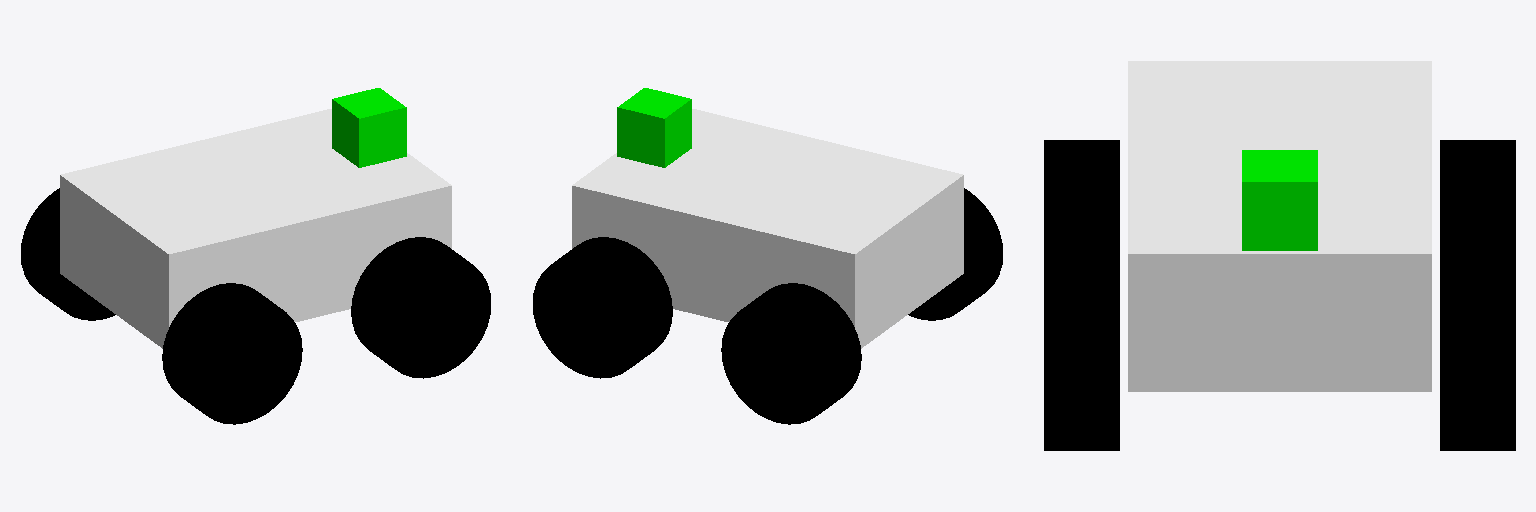
URDF robot description (robot):
<?xml version="1.0" ?>
<!-- =================================================================================== -->
<!-- |    This document was autogenerated by xacro from [local-path]/RM25/src/rm_robot_description/urdf/simulation_waking_robot.xacro | -->
<!-- |    EDITING THIS FILE BY HAND IS NOT RECOMMENDED                                 | -->
<!-- =================================================================================== -->
<robot name="robot">
  <link name="dummy"/>
  <link name="base_link">
    <visual>
      <geometry>
        <box size="0.2 .3 .1"/>
      </geometry>
      <origin rpy="0 0 1.5707963" xyz="0 0 0.05"/>
      <material name="white">
        <color rgba="1 1 1 1"/>
      </material>
    </visual>
    <collision>
      <geometry>
        <box size="0.2 .3 0.1"/>
      </geometry>
      <origin rpy="0 0 1.5707963" xyz="0 0 0.05"/>
    </collision>
    <inertial>
      <mass value="8.2"/>
      <inertia ixx="0.01" ixy="0.0" ixz="0.0" iyy="0.01" iyz="0.0" izz="0.01"/>
    </inertial>
  </link>
  <joint name="dummy_joint" type="fixed">
    <parent link="dummy"/>
    <child link="base_link"/>
  </joint>
  <link name="wheel_1">
    <visual>
      <geometry>
        <cylinder length="0.05" radius="0.06"/>
      </geometry>
      <origin rpy="0 0 0" xyz="0 0 0"/>
      <material name="black">
        <color rgba="0 0 0 1"/>
      </material>
    </visual>
    <collision>
      <geometry>
        <cylinder length="0.05" radius="0.06"/>
      </geometry>
    </collision>
    <mu1>0.5</mu1>
    <mu2>0.5</mu2>
    <inertial>
      <mass value="0.5"/>
      <inertia ixx="0.01" ixy="0.0" ixz="0.0" iyy="0.01" iyz="0.0" izz="0.01"/>
    </inertial>
  </link>
  <link name="wheel_2">
    <visual>
      <geometry>
        <cylinder length="0.05" radius="0.06"/>
      </geometry>
      <origin rpy="0 0 0" xyz="0 0 0"/>
      <material name="black"/>
    </visual>
    <collision>
      <geometry>
        <cylinder length="0.05" radius="0.06"/>
      </geometry>
    </collision>
    <mu1>0.5</mu1>
    <mu2>0.5</mu2>
    <inertial>
      <mass value="0.5"/>
      <inertia ixx="0.01" ixy="0.0" ixz="0.0" iyy="0.01" iyz="0.0" izz="0.01"/>
    </inertial>
  </link>
  <link name="wheel_3">
    <visual>
      <geometry>
        <cylinder length="0.05" radius="0.06"/>
      </geometry>
      <origin rpy="0 0 0" xyz="0 0 0"/>
      <material name="black"/>
    </visual>
    <collision>
      <geometry>
        <cylinder length="0.05" radius="0.06"/>
      </geometry>
    </collision>
    <mu1>0.5</mu1>
    <mu2>0.5</mu2>
    <inertial>
      <mass value="0.5"/>
      <inertia ixx="0.01" ixy="0.0" ixz="0.0" iyy="0.01" iyz="0.0" izz="0.01"/>
    </inertial>
  </link>
  <link name="wheel_4">
    <visual>
      <geometry>
        <cylinder length="0.05" radius="0.06"/>
      </geometry>
      <origin rpy="0 0 0" xyz="0 0 0"/>
      <material name="black"/>
    </visual>
    <collision>
      <geometry>
        <cylinder length="0.05" radius="0.06"/>
      </geometry>
    </collision>
    <mu1>0.5</mu1>
    <mu2>0.5</mu2>
    <inertial>
      <mass value="0.5"/>
      <inertia ixx="0.01" ixy="0.0" ixz="0.0" iyy="0.01" iyz="0.0" izz="0.01"/>
    </inertial>
  </link>
  <joint name="base_to_wheel1" type="continuous">
    <parent link="base_link"/>
    <child link="wheel_1"/>
    <origin rpy="-1.5707963 0 0" xyz="0.1 0.13 0"/>
    <axis xyz="0 0 1"/>
  </joint>
  <joint name="base_to_wheel2" type="continuous">
    <axis xyz="0 0 1"/>
    <anchor xyz="0 0 0"/>
    <limit effort="100" velocity="100"/>
    <parent link="base_link"/>
    <child link="wheel_2"/>
    <origin rpy="-1.5707963 0 0" xyz="-0.1 0.13 0"/>
  </joint>
  <joint name="base_to_wheel3" type="continuous">
    <parent link="base_link"/>
    <axis xyz="0 0 1"/>
    <child link="wheel_3"/>
    <origin rpy="-1.5707963 0 0" xyz="0.1 -0.13 0"/>
  </joint>
  <joint name="base_to_wheel4" type="continuous">
    <parent link="base_link"/>
    <axis xyz="0 0 1"/>
    <child link="wheel_4"/>
    <origin rpy="-1.5707963 0 0" xyz="-0.1 -0.13 0"/>
  </joint>
  <!-- IMU joint -->
  <joint name="imu_joint" type="fixed">
    <axis xyz="0 1 0"/>
    <origin rpy="0 0 0" xyz="0.12 0 0.125"/>
    <parent link="base_link"/>
    <child link="imu_link"/>
  </joint>
  <!-- IMU -->
  <link name="imu_link">
    <collision>
      <origin rpy="0 0 0" xyz="0 0 0"/>
      <geometry>
        <box size="0.05 0.05 0.05"/>
      </geometry>
    </collision>
    <visual>
      <origin rpy="0 0 0" xyz="0 0 0"/>
      <geometry>
        <box size="0.05 0.05 0.05"/>
      </geometry>
      <material name="green">
        <color rgba="0 1 0 1"/>
      </material>
    </visual>
    <inertial>
      <mass value="1e-2"/>
      <origin rpy="0 0 0" xyz="0 0 0"/>
      <inertia ixx="1e-6" ixy="0" ixz="0" iyy="1e-6" iyz="0" izz="1e-6"/>
    </inertial>
  </link>
  <!-- Gazebo插件设置相关 -->
  <gazebo reference="base_link">
    <material>Gazebo/Orange</material>
  </gazebo>
  <gazebo reference="wheel_1">
    <material>Gazebo/Red</material>
  </gazebo>
  <gazebo reference="wheel_2">
    <material>Gazebo/Black</material>
  </gazebo>
  <gazebo reference="wheel_3">
    <material>Gazebo/Red</material>
  </gazebo>
  <gazebo reference="wheel_4">
    <material>Gazebo/Black</material>
  </gazebo>
  <gazebo reference="imu_link">
    <material>Gazebo/BuildingFrame</material>
  </gazebo>
  <gazebo reference="livox_frame">
    <material>Gazebo/LightBlueLaser</material>
  </gazebo>
  <!-- Drive controller plugin-->
  <!-- https://github.com/ros-simulation/gazebo_ros_pkgs/wiki/ROS-2-Migration:-Planar-Move -->
  <gazebo>
    <plugin filename="libgazebo_ros_planar_move.so" name="mecanum_controller">
      <ros>
        <!-- Add a namespace -->
        <namespace>/</namespace>
        <!-- Remap the default topic -->
        <remapping>cmd_vel:=cmd_vel_chassis</remapping>
        <remapping>odom:=odom</remapping>
      </ros>
      <!-- Set control loop update rate -->
      <update_rate>100</update_rate>
      <!-- Set odom publish rate -->
      <publish_rate>10</publish_rate>
      <!-- Set if odom required -->
      <publish_odom>false</publish_odom>
      <publish_odom_tf>false</publish_odom_tf>
      <!-- Frame IDs -->
      <odometry_frame>odom</odometry_frame>
      <robot_base_frame>base_link</robot_base_frame>
      <!-- Set odom covariance -->
      <covariance_x>0.0001</covariance_x>
      <covariance_y>0.0001</covariance_y>
      <covariance_yaw>0.01</covariance_yaw>
    </plugin>
  </gazebo>
  <!-- mid360_imu plugin -->
  <!-- https://github.com/ros-simulation/gazebo_ros_pkgs/wiki/ROS-2-Migration:-IMU-Sensors -->
  <gazebo reference="imu_link">
    <sensor name="mid360_imu" type="imu">
      <always_on>true</always_on>
      <update_rate>100</update_rate>
      <plugin filename="libgazebo_ros_imu_sensor.so" name="imu_plugin">
        <ros>
          <namespace>/</namespace>
          <remapping>~/out:=/livox/imu</remapping>
        </ros>
        <frame_name>imu_link</frame_name>
      </plugin>
    </sensor>
  </gazebo>
  <link name="livox_frame">
    <visual>
      <origin rpy="1.5707963267948966 0 3.141592653589793" xyz="0.025 -0.0265 0.0"/>
      <geometry>
        <mesh filename="file://[local-path]/RM25/src/rm_robot_description/meshes/mid360.stl" scale="0.0008 0.0008 0.0008"/>
      </geometry>
    </visual>
  </link>
  <joint name="livox_frame_joint" type="fixed">
    <parent link="base_link"/>
    <child link="livox_frame"/>
    <origin rpy="0 0 0" xyz="0.12 0.0 0.175"/>
  </joint>
  <gazebo reference="livox_frame">
    <sensor name="livox_frame" type="ray">
      <pose>0 0 0 0 0 0</pose>
      <visualize>true</visualize>
      <update_rate>10</update_rate>
      <!-- 仿真使用-->
      <gazebo>
        <plugin filename="libgazebo_ros_livox.so" name="livox_lidar_plugin">
          <ros>
            <namespace>/livox</namespace>
            <remapping>pointcloud:=/livox/lidar/pointcloud</remapping>
          </ros>
          <frameName>livox_link</frameName>
          <topic>/livox/lidar/pointcloud</topic>
          <updateRate>10</updateRate>
        </plugin>
      </gazebo>
    </sensor>
  </gazebo>
</robot>

--- Facts derived from the render (not from the file) ---
3 views of the same robot in one strip: view 1: azimuth 30°, elevation 25°; view 2: azimuth 150°, elevation 25°; view 3: azimuth 270°, elevation 25° (orthographic).
Model robot with 8 links and 7 joints (4 continuous, 3 fixed), rooted at dummy, posed every joint at zero.
Visible links, largest first — view 1: base_link, wheel_4, wheel_3, imu_link, wheel_2; view 2: base_link, wheel_2, wheel_1, imu_link, wheel_4; view 3: base_link, wheel_1, wheel_3, wheel_2, wheel_4, imu_link.
Boxes of the visible links, x1=… form: base_link: x1=60, y1=109, x2=451, y2=348; wheel_4: x1=162, y1=283, x2=302, y2=424; wheel_3: x1=351, y1=237, x2=490, y2=378; imu_link: x1=332, y1=88, x2=406, y2=167; wheel_2: x1=21, y1=188, x2=115, y2=320; base_link: x1=572, y1=109, x2=963, y2=348; wheel_2: x1=721, y1=283, x2=861, y2=424; wheel_1: x1=533, y1=237, x2=672, y2=378; imu_link: x1=617, y1=88, x2=691, y2=167; wheel_4: x1=908, y1=188, x2=1002, y2=320; base_link: x1=1128, y1=61, x2=1431, y2=391; wheel_1: x1=1440, y1=269, x2=1515, y2=450; wheel_3: x1=1044, y1=269, x2=1119, y2=450; wheel_2: x1=1440, y1=140, x2=1515, y2=268; wheel_4: x1=1044, y1=140, x2=1119, y2=268; imu_link: x1=1242, y1=150, x2=1317, y2=250.
Size in the robot's own frame: 0.32 by 0.31 by 0.21 metres.
Geometry: only primitive shapes (box / cylinder / sphere) drawn; not drawn: 1 mesh visual (reference in a form the renderer does not follow).
